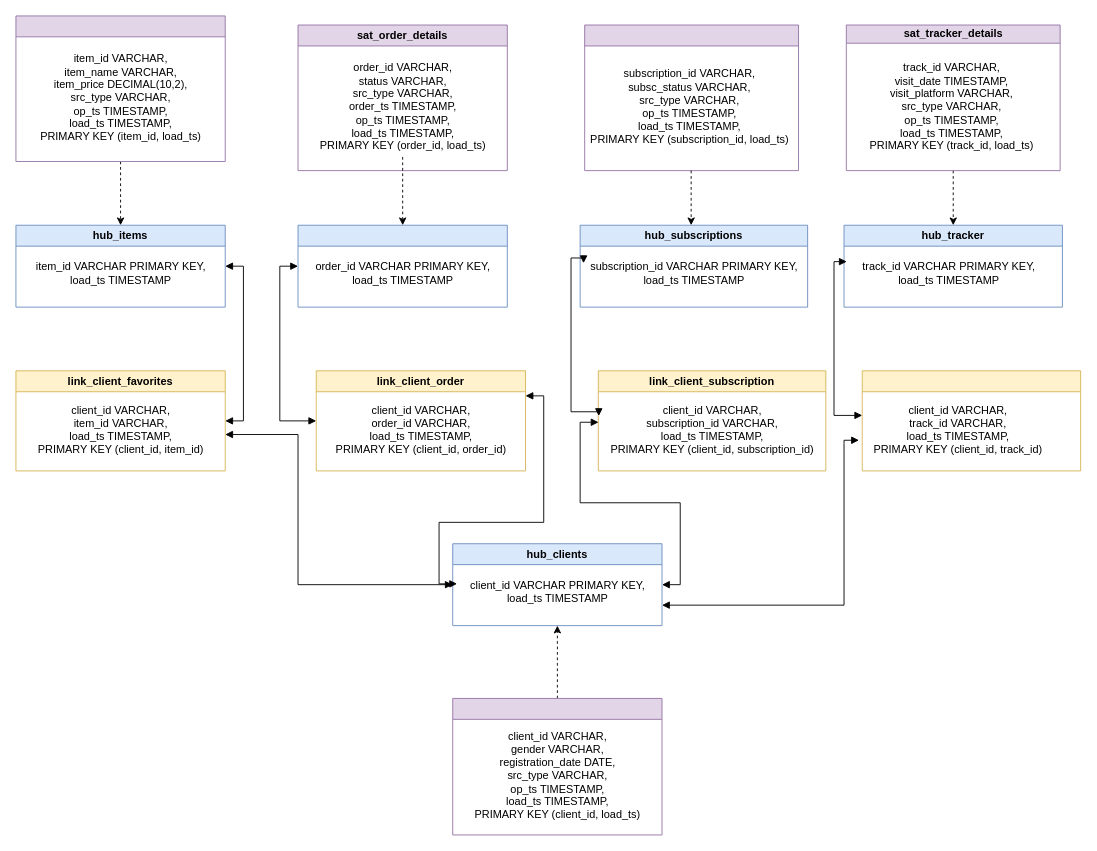
The diagram is 1097 pixels wide and 851 high, and some of its shapes have lost their labels. Each missing label, with the box of its shape:
hub_orders: (297, 224, 507, 307)
link_client_tracker: (861, 370, 1081, 471)
sat_client_details: (452, 698, 662, 835)
sat_item_details: (15, 15, 225, 162)
sat_subscription_details: (584, 24, 799, 171)
